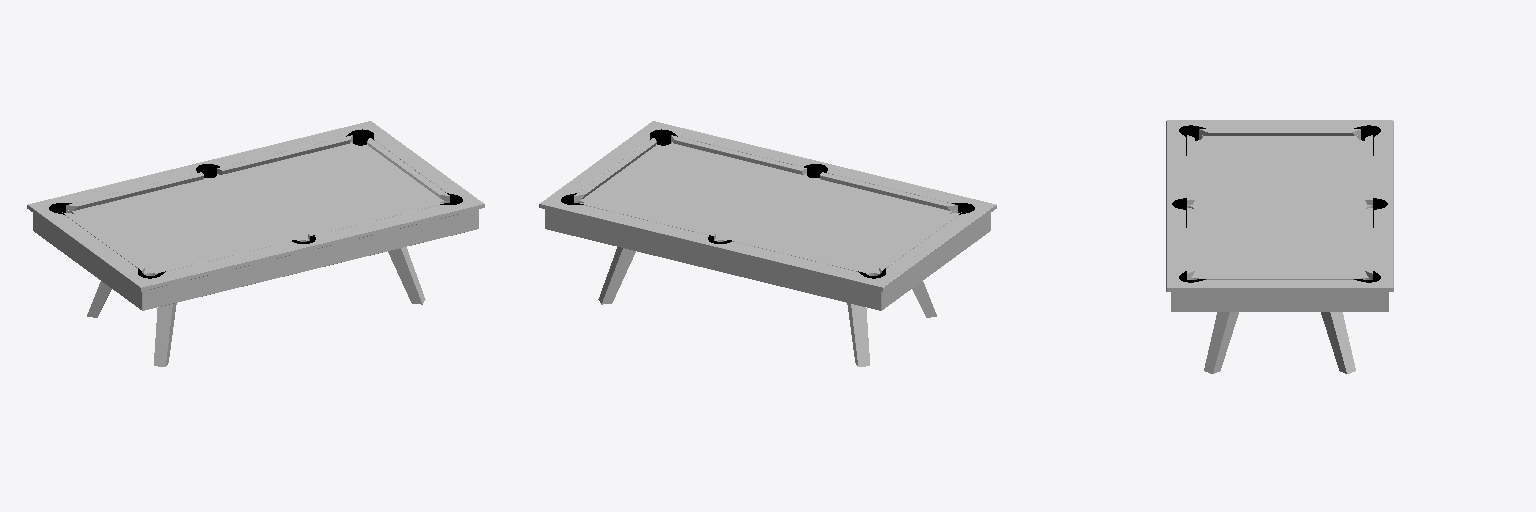
The model's file is PoolTable.obj.
3 views of the same model, side by side, from view 1: azimuth 30°, elevation 25°; view 2: azimuth 150°, elevation 25°; view 3: azimuth 270°, elevation 25° (orthographic).
Visible parts, largest first — view 1: Table_Plane.001, OuterTable_Plane.003, Bumper_Plane.002, Legs_Cube, CornerTrim_Plane; view 2: Table_Plane.001, OuterTable_Plane.003, Bumper_Plane.002, Legs_Cube, CornerTrim_Plane; view 3: Table_Plane.001, OuterTable_Plane.003, Bumper_Plane.002, Legs_Cube, CornerTrim_Plane.
Boxes of the visible parts, box(x1,y1,x2,y2) form: Table_Plane.001: box(68, 142, 448, 275); OuterTable_Plane.003: box(27, 121, 484, 310); Bumper_Plane.002: box(62, 135, 449, 273); Legs_Cube: box(87, 247, 425, 366); CornerTrim_Plane: box(49, 129, 462, 278); Table_Plane.001: box(575, 142, 955, 275); OuterTable_Plane.003: box(539, 121, 996, 310); Bumper_Plane.002: box(574, 135, 961, 273); Legs_Cube: box(598, 247, 936, 366); CornerTrim_Plane: box(561, 129, 974, 278); Table_Plane.001: box(1188, 135, 1371, 279); OuterTable_Plane.003: box(1166, 120, 1393, 311); Bumper_Plane.002: box(1187, 129, 1372, 279); Legs_Cube: box(1204, 312, 1355, 373); CornerTrim_Plane: box(1179, 125, 1380, 282).
Size of the model in its own units: 2.61 by 0.7592 by 1.5.